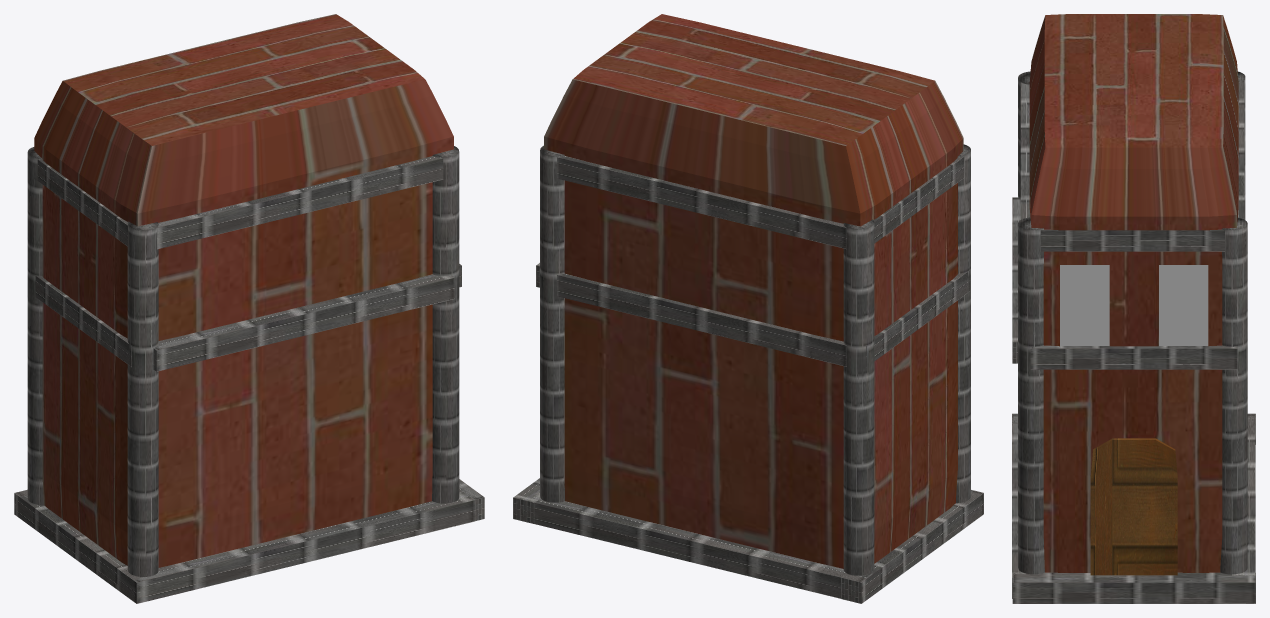
File: city house.fbx
3 renders of one model, left to right at view 1: azimuth 30°, elevation 25°; view 2: azimuth 150°, elevation 25°; view 3: azimuth 270°, elevation 25°, orthographic.
Parts seen in each view (by area): view 1: Cube, Cylinder.003, Cube.003, Cube.008, Cylinder.002, Cube.013, Cylinder.004, Cube.004, Cube.014, Cube.010; view 2: Cube, Cylinder.004, Cube.009, Cylinder.001, Cube.002, Cube.012, Cylinder.003, Cube.004, Cube.014, Cube.010, Cube.001; view 3: Cube, Cube.007, Cylinder.002, Cylinder.001, Cube.001, Cube.005, Cube.006, Plane, Plane.001, Cube.009, Cube.013, Cube.008 (+4 smaller).
Part boxes in pixels (x1,y1,x2,y2): Cube: [34, 14, 453, 567]; Cylinder.003: [127, 221, 158, 576]; Cube.003: [134, 491, 474, 603]; Cube.008: [153, 274, 454, 371]; Cylinder.002: [432, 146, 459, 503]; Cube.013: [157, 156, 443, 249]; Cylinder.004: [27, 147, 43, 505]; Cube.004: [14, 489, 144, 603]; Cube.014: [35, 276, 131, 367]; Cube.010: [37, 159, 127, 246]; Cube: [544, 14, 963, 568]; Cylinder.004: [843, 219, 874, 575]; Cube.009: [530, 492, 872, 598]; Cylinder.001: [540, 145, 564, 502]; Cube.002: [557, 156, 846, 249]; Cube.012: [557, 273, 846, 366]; Cylinder.003: [956, 144, 970, 503]; Cube.004: [841, 490, 983, 603]; Cube.014: [866, 270, 970, 367]; Cube.010: [873, 157, 964, 243]; Cube.001: [513, 478, 539, 523]; Cube: [1029, 14, 1238, 572]; Cube.007: [1090, 438, 1177, 575]; Cylinder.002: [1018, 217, 1044, 574]; Cylinder.001: [1220, 217, 1247, 574]; Cube.001: [1012, 572, 1255, 603]; Cube.005: [1030, 345, 1237, 369]; Cube.006: [1040, 229, 1224, 251]; Plane: [1060, 265, 1109, 345]; Plane.001: [1159, 265, 1208, 345]; Cube.009: [1232, 413, 1255, 575]; Cube.013: [1020, 82, 1030, 219]; Cube.008: [1012, 197, 1020, 363].
Size of the model in its own units: 1479 by 1791 by 901.
